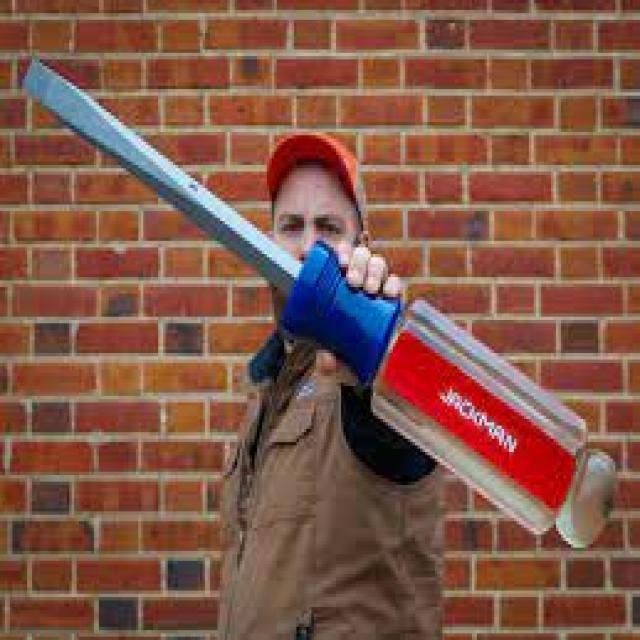screwdriver: (20, 58, 618, 550)
